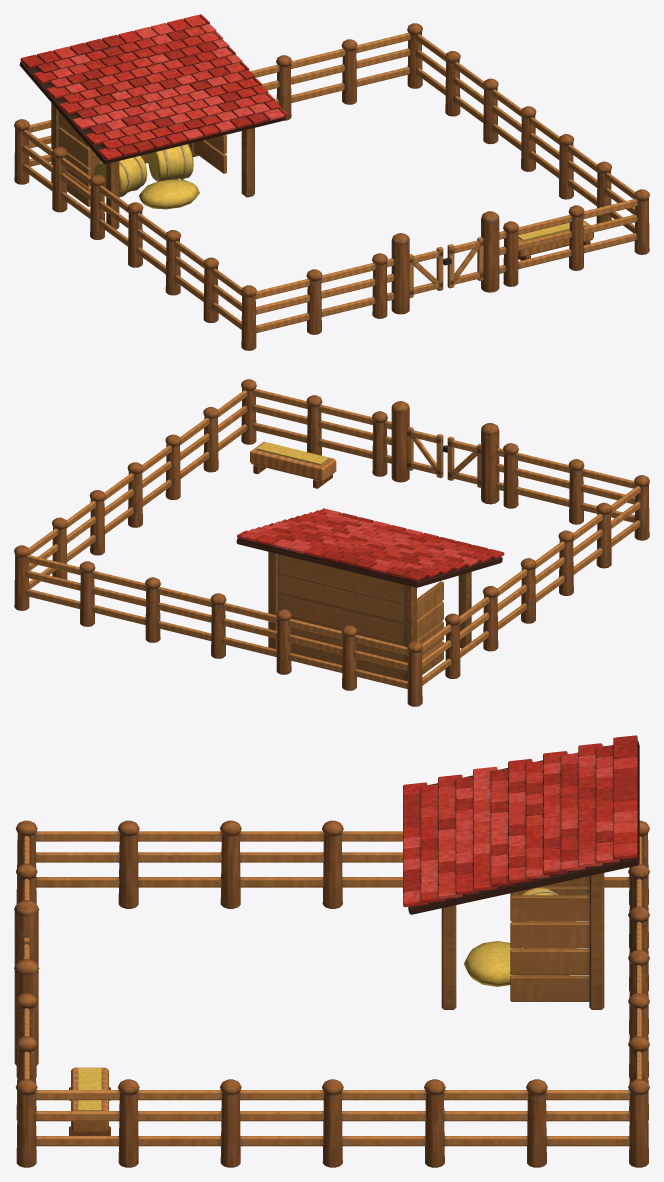
File: llama_ranch.glb
3 views of the same model, one above another, from view 1: azimuth 30°, elevation 25°; view 2: azimuth 150°, elevation 25°; view 3: azimuth 270°, elevation 25° (orthographic). The views are drawn at different scales.
Parts seen in each view (by area): view 1: llama_ranch; view 2: llama_ranch; view 3: llama_ranch.
Part boxes in pixels (bbox=[...]): llama_ranch: bbox=[14, 14, 649, 350]; llama_ranch: bbox=[14, 379, 649, 706]; llama_ranch: bbox=[14, 735, 649, 1167].
Bounding box in the file's own units: 3 × 0.9345 × 3.01.
Materials: 1 (1 with a texture image).
